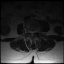CCS_normal: (31, 28, 33, 38)
LFS_normal: (35, 28, 37, 34)
LLS_normal: (33, 28, 35, 35)
RFS_normal: (27, 27, 29, 34)
RLS_normal: (29, 28, 31, 36)
